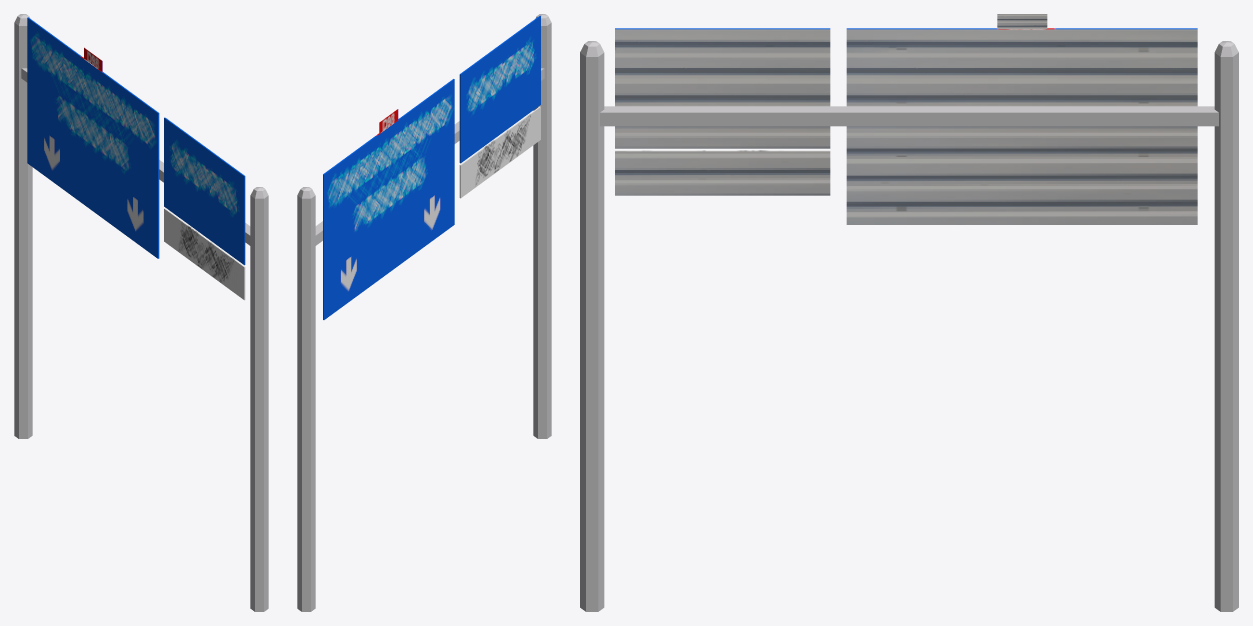
The model's file is SM_HighwaySign.fbx.
The picture shows the model from 3 angles, left to right: view 1: azimuth 30°, elevation 25°; view 2: azimuth 150°, elevation 25°; view 3: azimuth 270°, elevation 25°; orthographic projection. The views are drawn at different scales.
Visible parts, largest first — view 1: Cube.014; view 2: Cube.014; view 3: Cube.014.
Boxes of the visible parts, x1,y1,x2,y2 form: Cube.014: (14,14,268,611); Cube.014: (297,14,551,611); Cube.014: (580,14,1238,611).
Bounding box in the file's own units: 0.0753 × 2.3 × 2.33.
